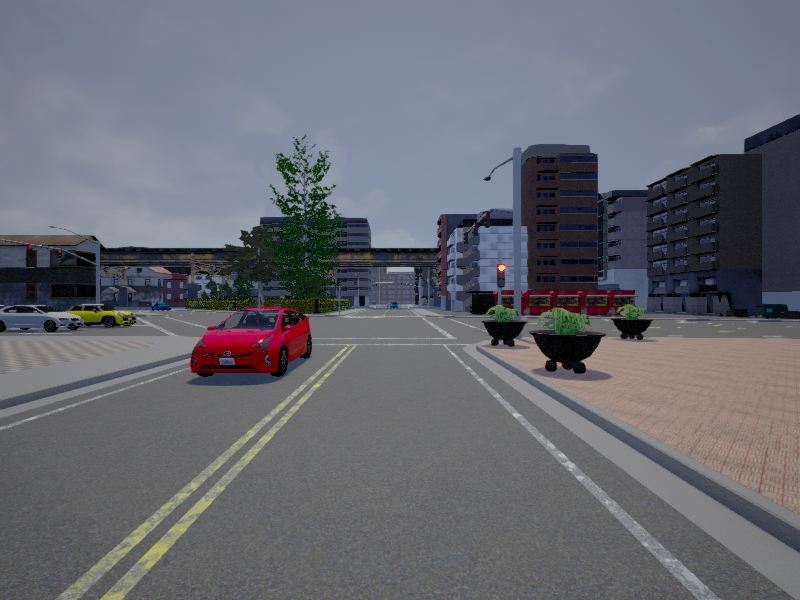Benign: (190, 306, 315, 378), (1, 303, 80, 332), (67, 303, 139, 327), (151, 301, 171, 311), (387, 301, 398, 311)
